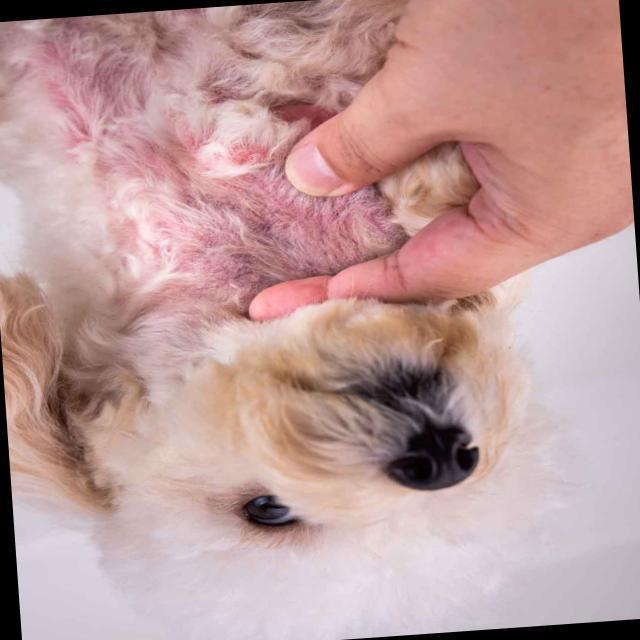fungal infection: (109, 134, 245, 266), (239, 173, 387, 254), (44, 45, 125, 147)
